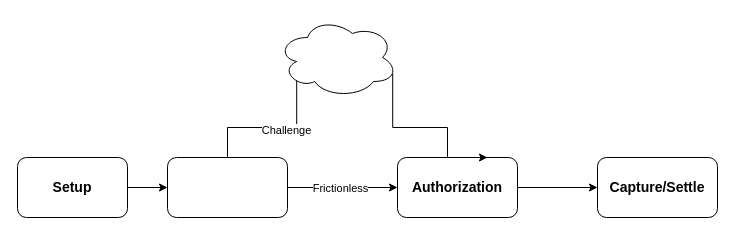
The diagram is 735 pixels wide and 235 high, and some of its shapes have lost their labels. Here are the shapes that lost their labels. From the top down, the centre of each, then its label:
At point (337, 57): "Validation (Challenge)".
At point (227, 187): "Enrollment".
